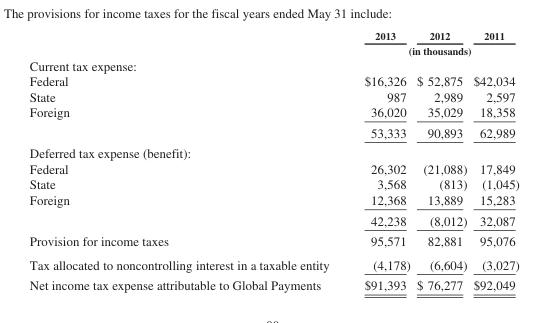table: (28, 28, 518, 292)
table column: (28, 28, 346, 292), (346, 28, 412, 292), (412, 28, 469, 292), (469, 28, 518, 292)
table column header: (28, 28, 518, 57)
table projected row header: (28, 142, 518, 160), (28, 57, 518, 72)
table row: (28, 230, 518, 252), (28, 252, 518, 274), (28, 209, 518, 230), (28, 122, 518, 142), (28, 103, 518, 122), (28, 142, 518, 160), (28, 191, 518, 209), (28, 274, 518, 292), (28, 72, 518, 88), (28, 160, 518, 176), (28, 42, 518, 57), (28, 57, 518, 72), (28, 88, 518, 103), (28, 176, 518, 191), (28, 28, 518, 42)
table spanning cell: (346, 42, 518, 57)
